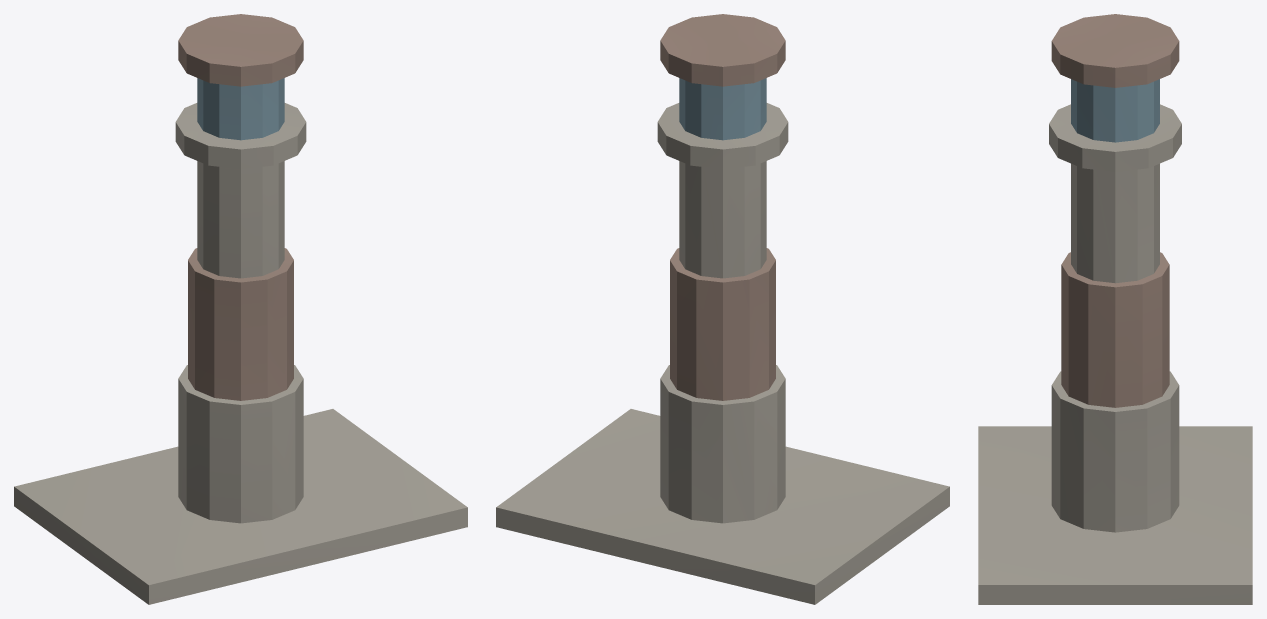
File: lighthouse-01.glb
3 renders of one model, left to right at view 1: azimuth 30°, elevation 25°; view 2: azimuth 150°, elevation 25°; view 3: azimuth 270°, elevation 25°, orthographic.
Visible parts, largest first — view 1: world; view 2: world; view 3: world.
Boxes of the visible parts, x1,y1,x2,y2 form: world: (14, 14, 467, 604); world: (496, 14, 949, 604); world: (978, 14, 1252, 604).
Bounding box in the file's own units: 1.35 × 1.93 × 0.99.
